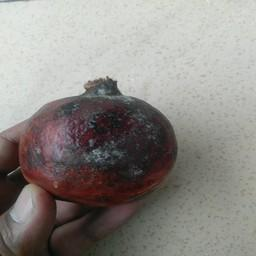Bad_pomegranate: (7, 70, 178, 210)
